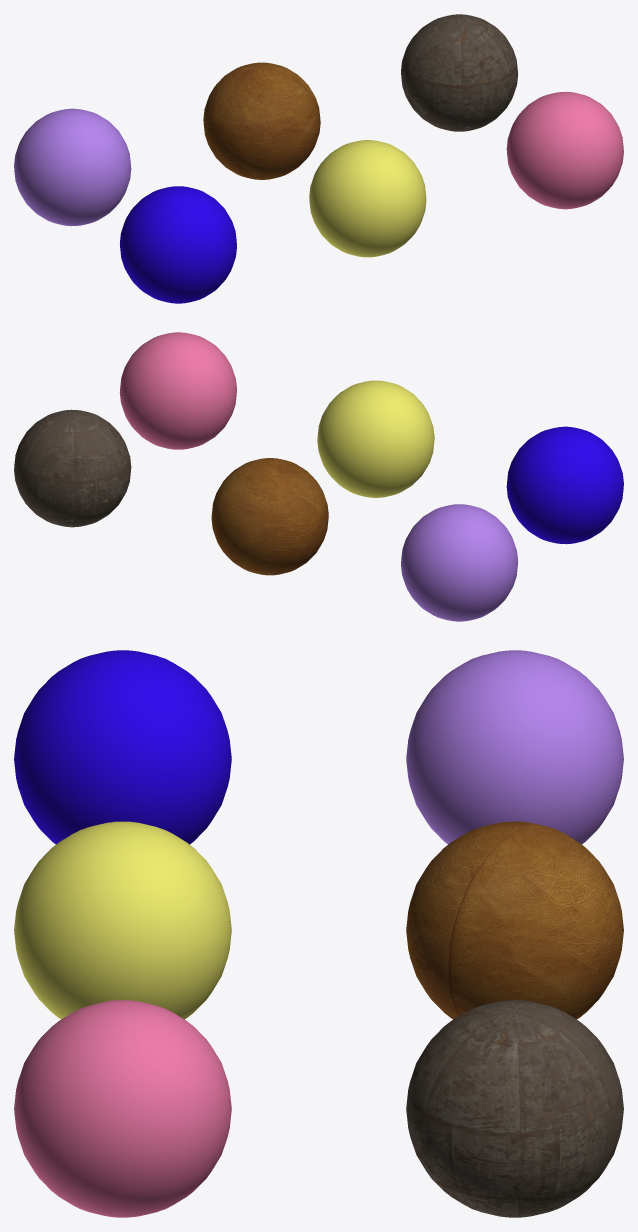
3 renders of one model, top to bottom at view 1: azimuth 30°, elevation 25°; view 2: azimuth 150°, elevation 25°; view 3: azimuth 270°, elevation 25°, orthographic. The views are drawn at different scales.
Parts seen in each view (by area): view 1: Sphere.005, Sphere.001, Sphere.006, Sphere, Sphere.003, Sphere.004; view 2: Sphere, Sphere.003, Sphere.004, Sphere.005, Sphere.001, Sphere.006; view 3: Sphere.003, Sphere.006, Sphere, Sphere.005, Sphere.001, Sphere.004.
Boxes of the visible parts, x1,y1,x2,y2 form: Sphere.005: [203, 62, 320, 179]; Sphere.001: [119, 186, 236, 303]; Sphere.006: [401, 14, 518, 131]; Sphere: [309, 140, 426, 257]; Sphere.003: [506, 91, 623, 209]; Sphere.004: [14, 108, 131, 226]; Sphere: [317, 380, 434, 497]; Sphere.003: [119, 332, 236, 449]; Sphere.004: [401, 504, 518, 621]; Sphere.005: [211, 458, 328, 575]; Sphere.001: [506, 426, 623, 544]; Sphere.006: [14, 409, 131, 527]; Sphere.003: [14, 1000, 231, 1217]; Sphere.006: [406, 1000, 623, 1217]; Sphere: [14, 821, 231, 1019]; Sphere.005: [406, 821, 623, 1019]; Sphere.001: [14, 650, 231, 844]; Sphere.004: [406, 650, 623, 844].
Size of the model in its own units: 24 by 5 by 14.
6 materials, 2 textured.
